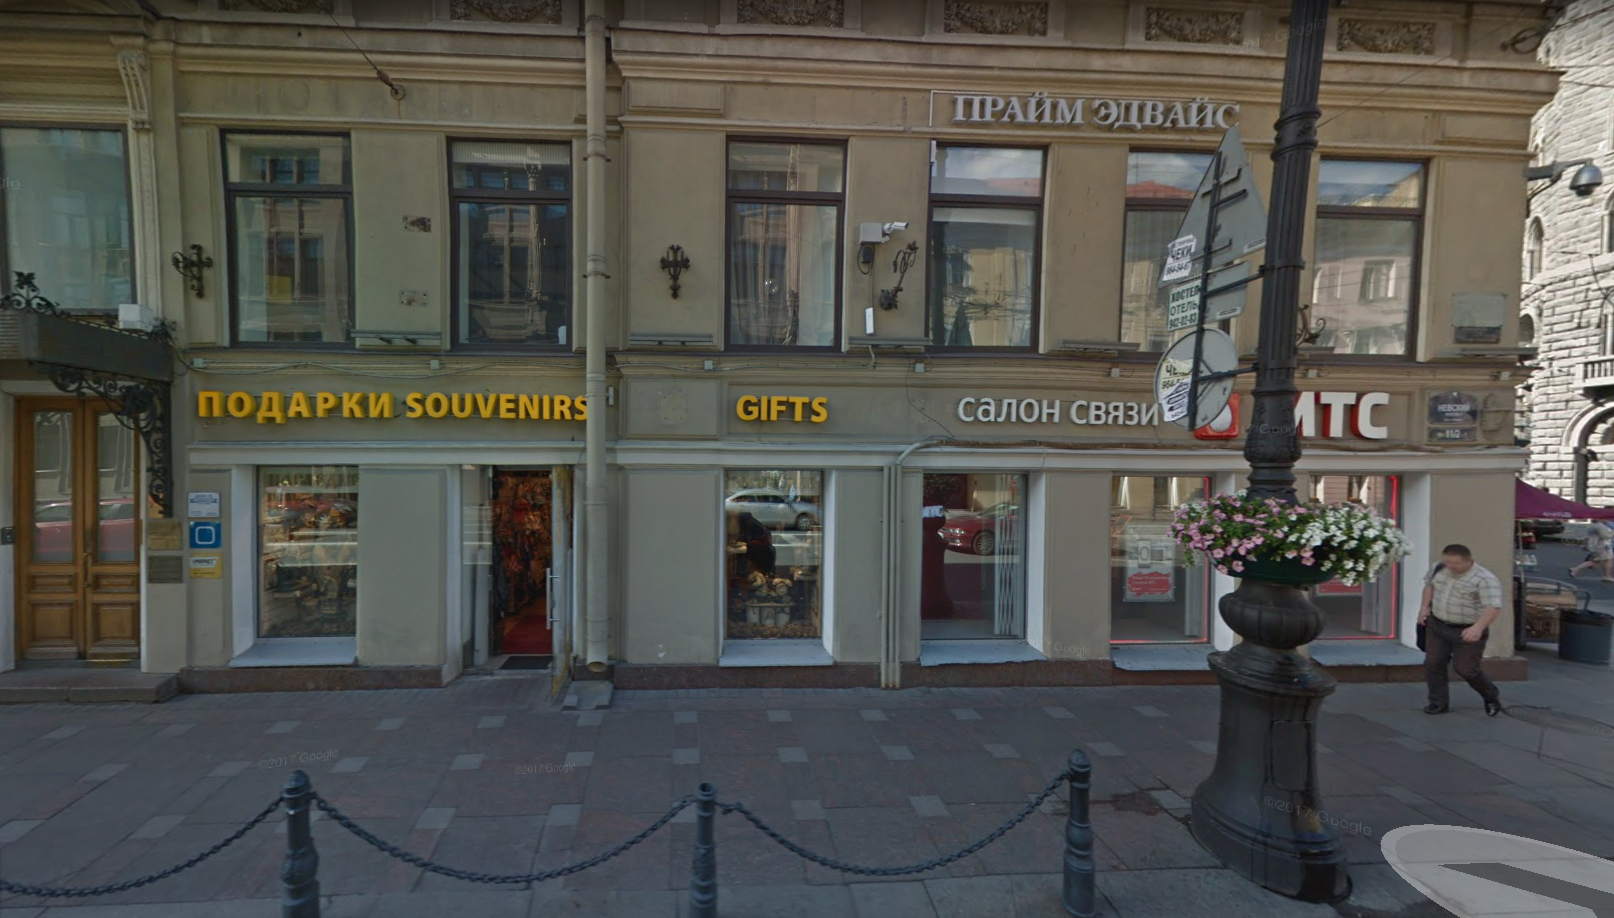door: (17, 398, 127, 672), (464, 465, 579, 682)
signboard: (191, 382, 588, 433), (946, 86, 1250, 136), (943, 382, 1167, 442), (1283, 392, 1389, 442), (727, 386, 839, 429)
window: (229, 132, 348, 349), (453, 143, 574, 347), (731, 137, 840, 351), (930, 146, 1038, 354), (251, 462, 362, 652), (1320, 152, 1417, 367), (717, 466, 825, 651), (919, 469, 1028, 643), (1111, 472, 1212, 647)
